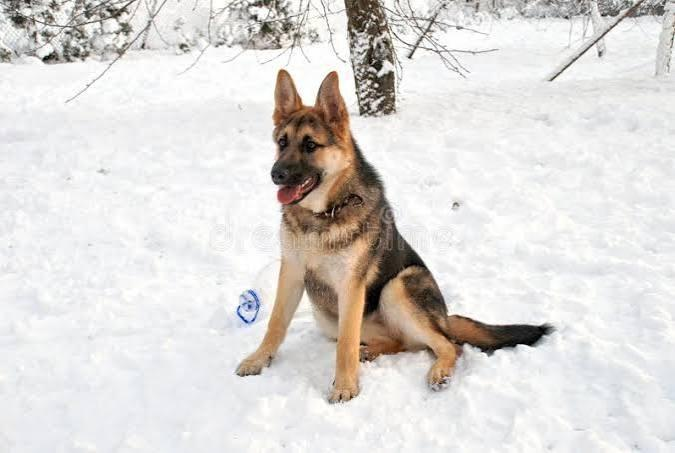puppy-dog: (235, 69, 556, 404)
